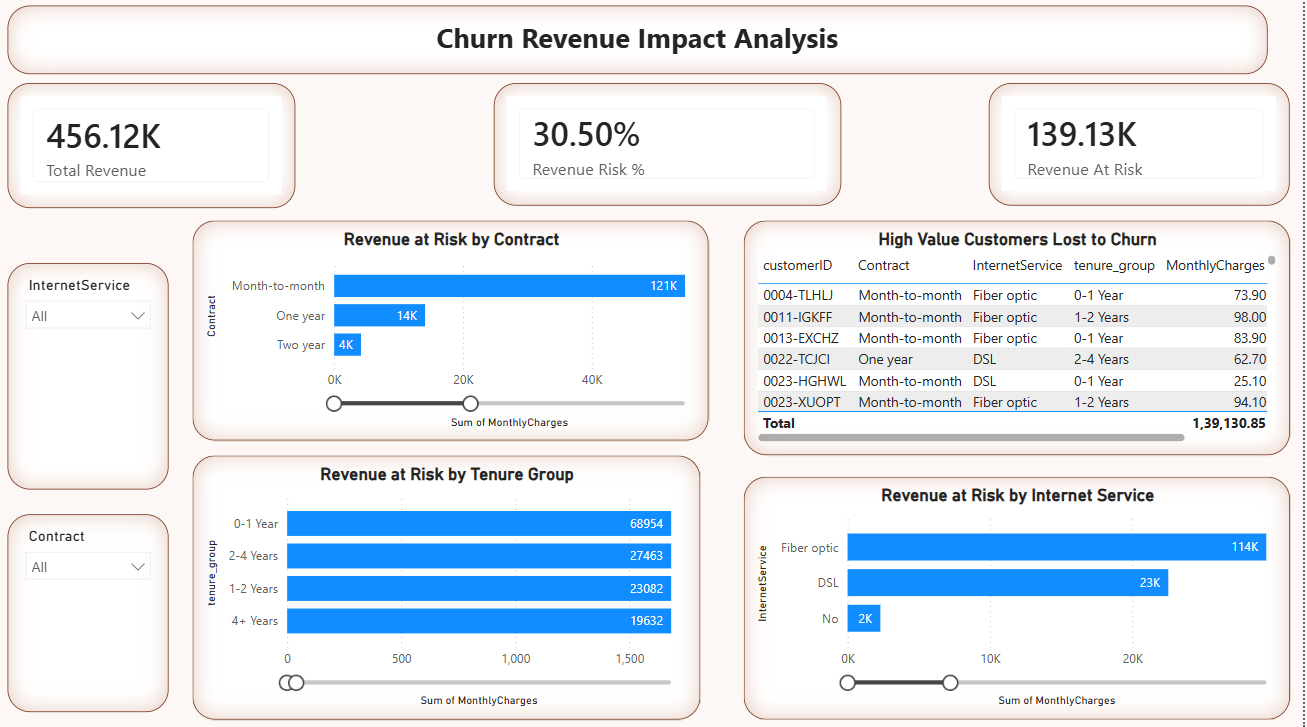

The dashboard page shown, as its layout file describes it:
{"tool":"powerbi","page":{"name":"Revenue Impact","canvas":[1280,720],"ordinal":2},"visuals":[{"type":"cardVisual","fields":{"Data":["clean_telco_churn.Total Revenue"]},"box":[12.2,88,281.3,122.3],"z":0},{"type":"cardVisual","fields":{"Data":["clean_telco_churn.Revenue At Risk"]},"box":[972.2,88,294.7,119.8],"z":1000},{"type":"cardVisual","fields":{"Data":["clean_telco_churn.Revenue Risk %"]},"box":[487.9,88,339.9,119.8],"z":2000},{"type":"textbox","box":[12.2,12.2,1232.6,67.3],"z":3000},{"type":"clusteredBarChart","title":"Revenue at Risk by Contract","fields":{"Y":["Sum(clean_telco_churn.MonthlyCharges)"],"Category":["clean_telco_churn.Contract"]},"box":[193.2,222.6,505,215.2],"z":4000},{"type":"clusteredBarChart","title":"Revenue at Risk by Internet Service","fields":{"Y":["Sum(clean_telco_churn.MonthlyCharges)"],"Category":["clean_telco_churn.InternetService"]},"box":[732.5,473.2,534.4,237.2],"z":5000},{"type":"clusteredBarChart","title":"Revenue at Risk by Tenure Group","fields":{"Y":["Sum(clean_telco_churn.MonthlyCharges)"],"Category":["clean_telco_churn.tenure_group"]},"box":[193.2,452.4,496.5,258],"z":6000},{"type":"tableEx","title":"High Value Customers Lost to Churn","fields":{"Values":["clean_telco_churn.customerID","clean_telco_churn.Contract","clean_telco_churn.InternetService","clean_telco_churn.tenure_group","Sum(clean_telco_churn.MonthlyCharges)","Sum(clean_telco_churn.TotalCharges)"]},"box":[732.5,222.6,534.4,229.9],"z":7000},{"type":"slicer","fields":{"Values":["clean_telco_churn.Contract"]},"box":[12.2,509.9,157.7,193.2],"z":8000},{"type":"slicer","fields":{"Values":["clean_telco_churn.InternetService"]},"box":[12.2,264.1,157.7,221.3],"z":9000}]}

Visuals, with their boxes in screenshot pixels (x1, y1, x2, y2), scaled from the page's 1280x720 canvas onto the 1307x727 screenshot:
cardVisual - clean_telco_churn.Total Revenue: 12 89 300 212
cardVisual - clean_telco_churn.Revenue At Risk: 993 89 1294 210
cardVisual - clean_telco_churn.Revenue Risk %: 498 89 845 210
textbox: 12 12 1271 80
"Revenue at Risk by Contract" clusteredBarChart: 197 225 713 442
"Revenue at Risk by Internet Service" clusteredBarChart: 748 478 1294 717
"Revenue at Risk by Tenure Group" clusteredBarChart: 197 457 704 717
"High Value Customers Lost to Churn" tableEx: 748 225 1294 457
slicer - clean_telco_churn.Contract: 12 515 173 710
slicer - clean_telco_churn.InternetService: 12 267 173 490
